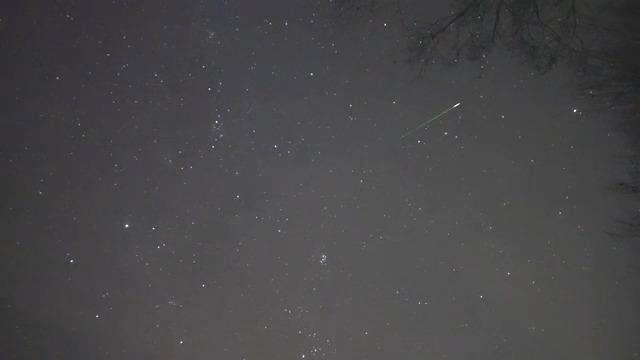meteorite: (389, 97, 475, 136)
